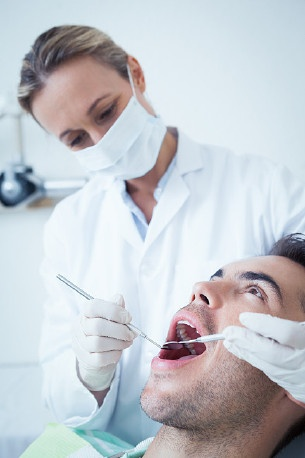Mask: (60, 81, 157, 179)
